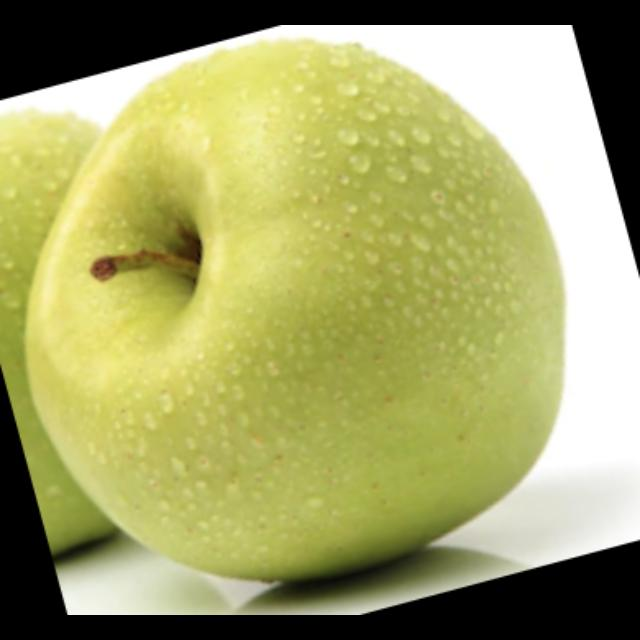Apel Segar: (31, 37, 562, 590)
